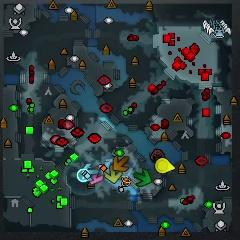p4: (154, 156, 176, 174)
x1: (86, 169, 104, 186)
x2: (105, 166, 121, 185)
x3: (83, 161, 98, 177)
x4: (132, 168, 152, 188)
x5: (112, 155, 130, 171)
